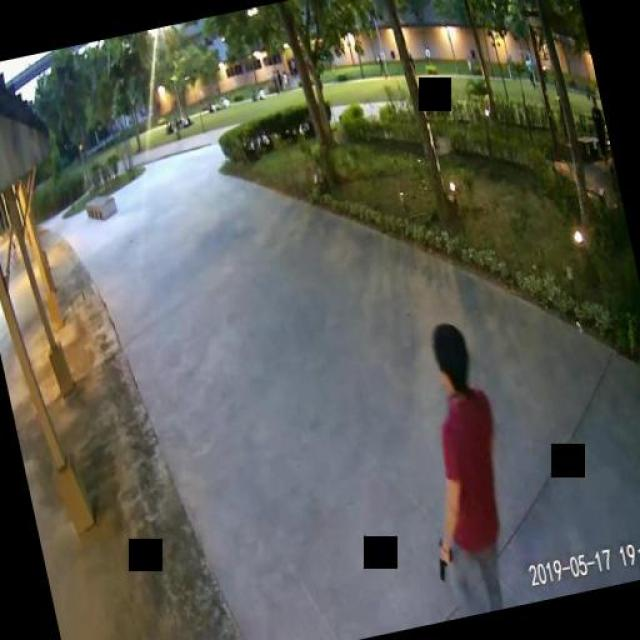gun: (429, 536, 455, 580)
